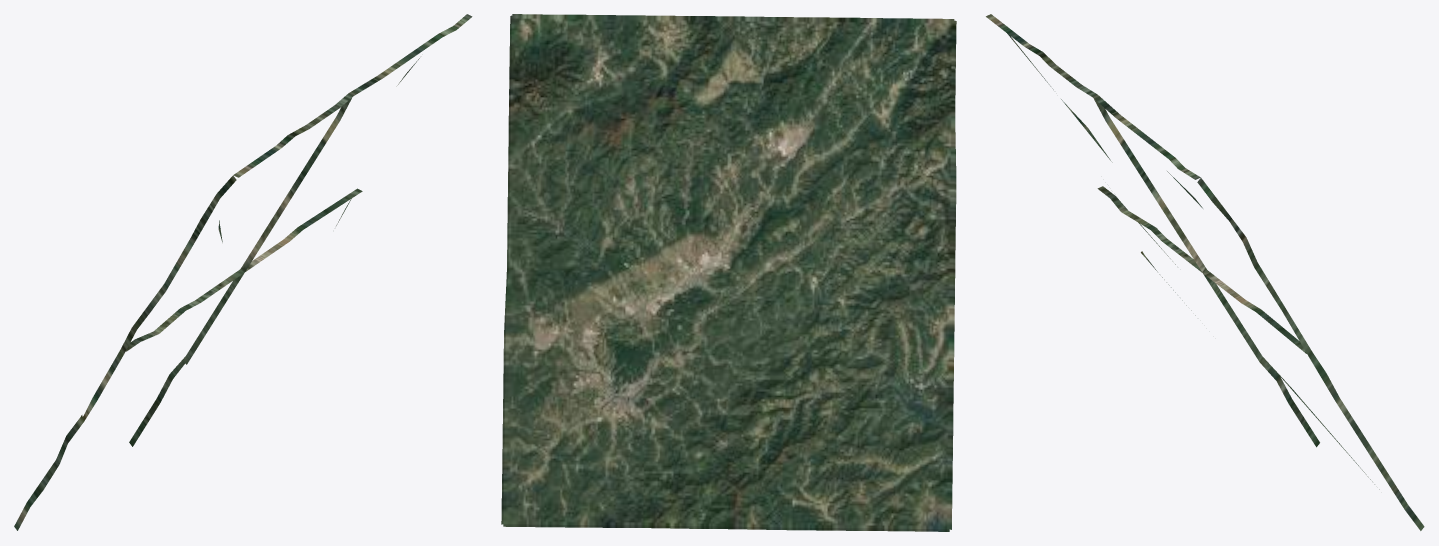
3 views of the same model, side by side, from view 1: azimuth 30°, elevation 25°; view 2: azimuth 150°, elevation 25°; view 3: azimuth 270°, elevation 25° (orthographic).
Bounding box in the file's own units: 79025 × 68946 × 67647.
Materials: 1 (1 with a texture image).
